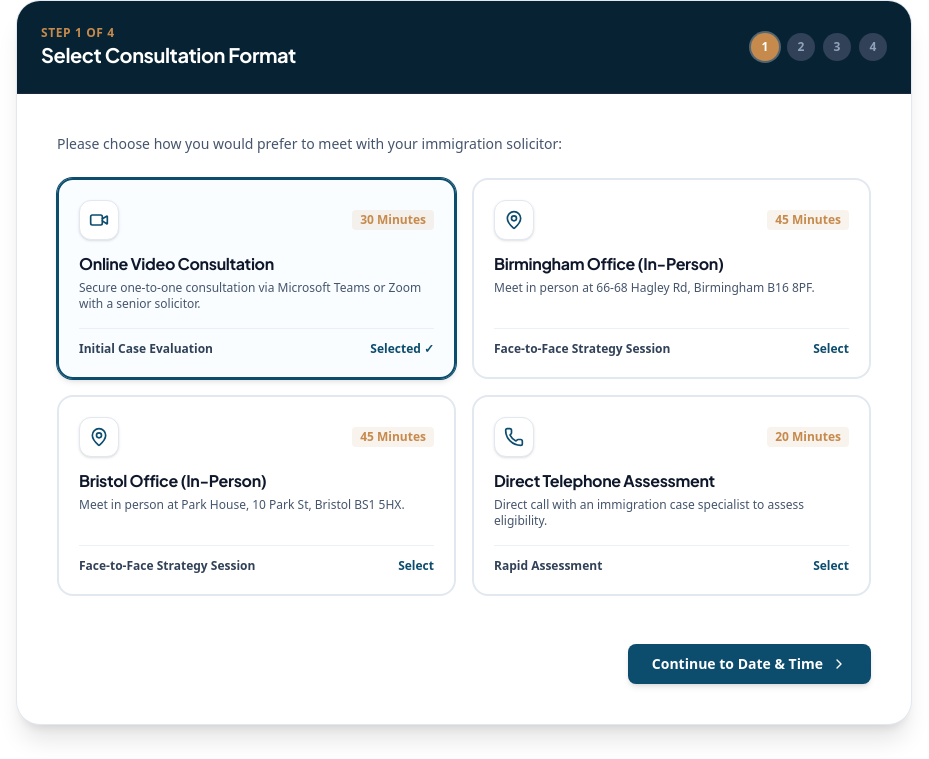
it: AppointmentScheduler Multi-Step Flow › advances from step 1 to step 2 when next button is clicked
Click the button "Continue to Date & Time": (749, 664) top-left (628, 644), bottom-right (871, 684)
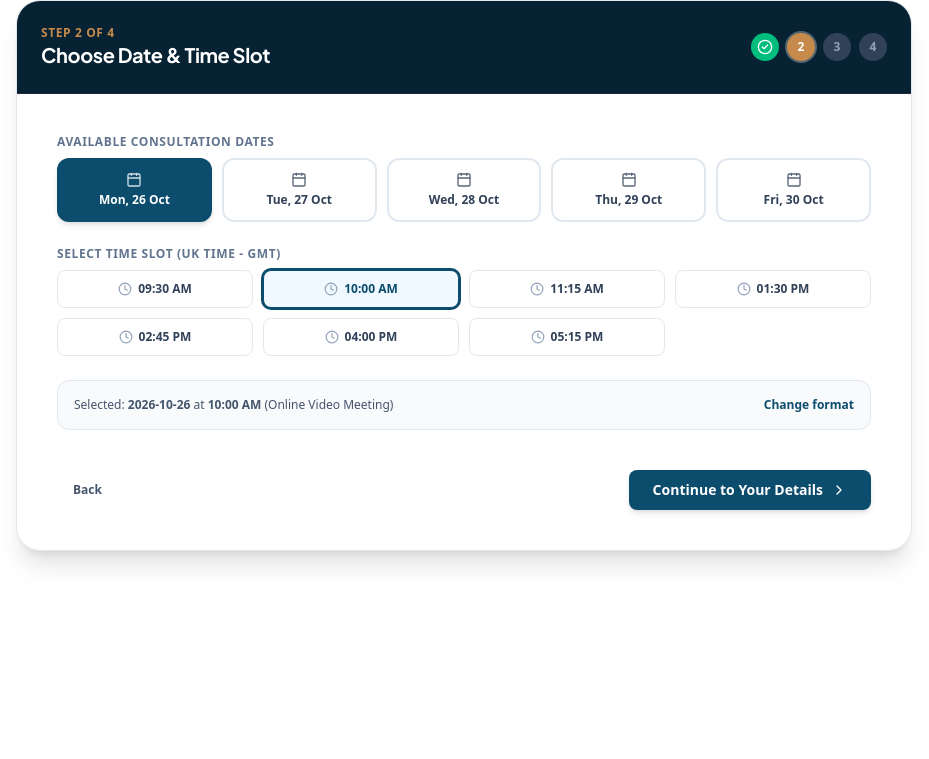
Result: the text "Step 2 of 4" is shown at top-left (41, 24), bottom-right (115, 41)
Result: the heading "Choose Date & Time Slot" is shown at top-left (41, 41), bottom-right (270, 69)
Result: the text "Available Consultation Dates" is shown at top-left (57, 133), bottom-right (274, 150)
